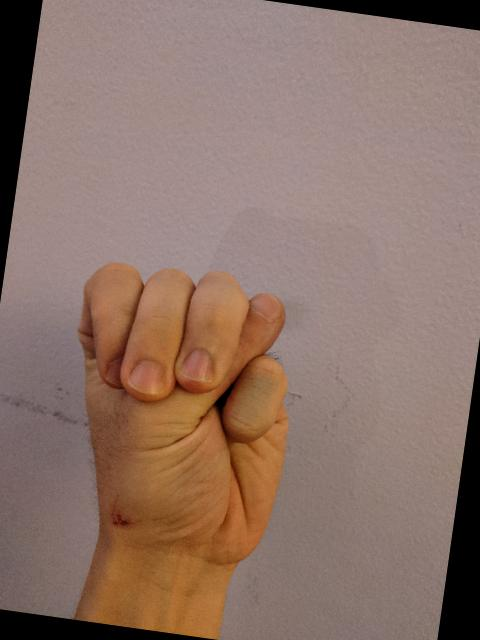M: (36, 247, 320, 578)
